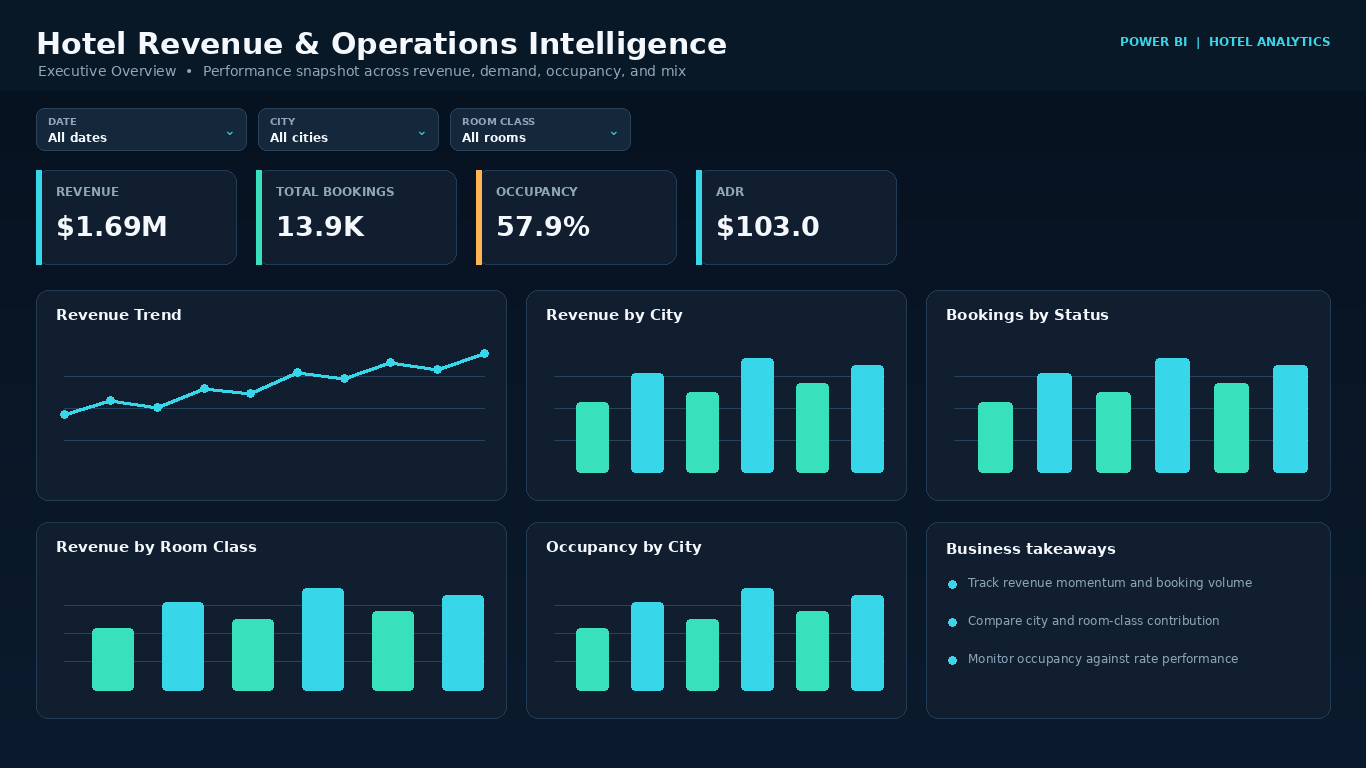

The page's visual inventory and layout, read from the dashboard file:
{"tool":"powerbi","page":{"name":"Executive Overview","canvas":[1366,768],"ordinal":0},"visuals":[{"type":"lineChart","title":"REVENUE TREND | MONTHLY","fields":{"Category":["dim_date.mmm yy"],"Y":["Measures (2).Revenue"]},"box":[32,218,650,220],"z":1000},{"type":"clusteredBarChart","title":"REVENUE BY CITY | RANKED","fields":{"Category":["dim_hotels.city"],"Y":["Measures (2).Revenue"]},"box":[696,218,638,220],"z":1000},{"type":"barChart","title":"REVENUE BY ROOM CLASS","fields":{"Category":["dim_rooms.room_class"],"Y":["Measures (2).Revenue"]},"box":[32,452,408,240],"z":1000},{"type":"barChart","title":"OCCUPANCY BY CITY","fields":{"Category":["dim_hotels.city"],"Y":["Measures (2).Occupancy %"]},"box":[456,452,408,240],"z":1000},{"type":"barChart","title":"BOOKING STATUS | VOLUME","fields":{"Category":["fact_bookings.booking_status"],"Y":["Measures (2).Total Booking"]},"box":[880,452,454,240],"z":1000},{"type":"cardVisual","fields":{"Data":["Measures (2).Revenue"]},"box":[32,88,296,112],"z":2000},{"type":"cardVisual","fields":{"Data":["Measures (2).Total Booking"]},"box":[346,88,296,112],"z":2000},{"type":"cardVisual","fields":{"Data":["Measures (2).Occupancy %"]},"box":[660,88,296,112],"z":2000},{"type":"cardVisual","fields":{"Data":["Measures (2).ADR"]},"box":[974,88,296,112],"z":2000},{"type":"slicer","fields":{"Values":["dim_hotels.city"]},"box":[884,18,136,56],"z":3000},{"type":"slicer","fields":{"Values":["dim_rooms.room_class"]},"box":[1032,18,136,56],"z":3000},{"type":"slicer","fields":{"Values":["dim_date.date"]},"box":[1180,18,154,56],"z":3000},{"type":"textbox","box":[32,18,650,36],"z":4000},{"type":"textbox","box":[34,52,760,20],"z":4000},{"type":"textbox","box":[32,742,1290,16],"z":4000}]}

Visuals, with their boxes in screenshot pixels (x1, y1, x2, y2), scaled from the page's 1366x768 canvas onto the 1366x768 screenshot:
"REVENUE TREND | MONTHLY" lineChart: x1=32, y1=218, x2=682, y2=438
"REVENUE BY CITY | RANKED" clusteredBarChart: x1=696, y1=218, x2=1334, y2=438
"REVENUE BY ROOM CLASS" barChart: x1=32, y1=452, x2=440, y2=692
"OCCUPANCY BY CITY" barChart: x1=456, y1=452, x2=864, y2=692
"BOOKING STATUS | VOLUME" barChart: x1=880, y1=452, x2=1334, y2=692
cardVisual - Measures (2).Revenue: x1=32, y1=88, x2=328, y2=200
cardVisual - Measures (2).Total Booking: x1=346, y1=88, x2=642, y2=200
cardVisual - Measures (2).Occupancy %: x1=660, y1=88, x2=956, y2=200
cardVisual - Measures (2).ADR: x1=974, y1=88, x2=1270, y2=200
slicer - dim_hotels.city: x1=884, y1=18, x2=1020, y2=74
slicer - dim_rooms.room_class: x1=1032, y1=18, x2=1168, y2=74
slicer - dim_date.date: x1=1180, y1=18, x2=1334, y2=74
textbox: x1=32, y1=18, x2=682, y2=54
textbox: x1=34, y1=52, x2=794, y2=72
textbox: x1=32, y1=742, x2=1322, y2=758
